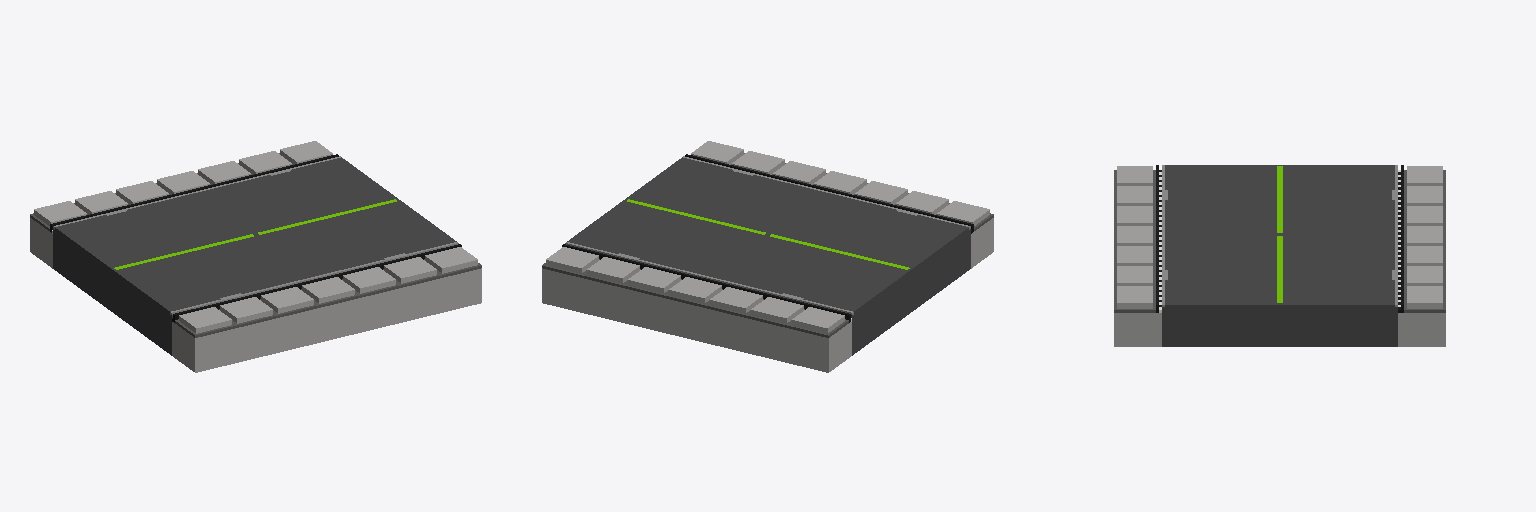
3 views of the same model, side by side, from view 1: azimuth 30°, elevation 25°; view 2: azimuth 150°, elevation 25°; view 3: azimuth 270°, elevation 25° (orthographic).
Visible parts, largest first — view 1: Street1; view 2: Street1; view 3: Street1.
Part boxes in pixels (left/top/right/bottom): Street1: left=30, top=141, right=481, bottom=372; Street1: left=542, top=141, right=993, bottom=372; Street1: left=1114, top=165, right=1445, bottom=346.
Size of the model in its own units: 7.06 by 1.01 by 7.06.
1 materials, 1 textured.